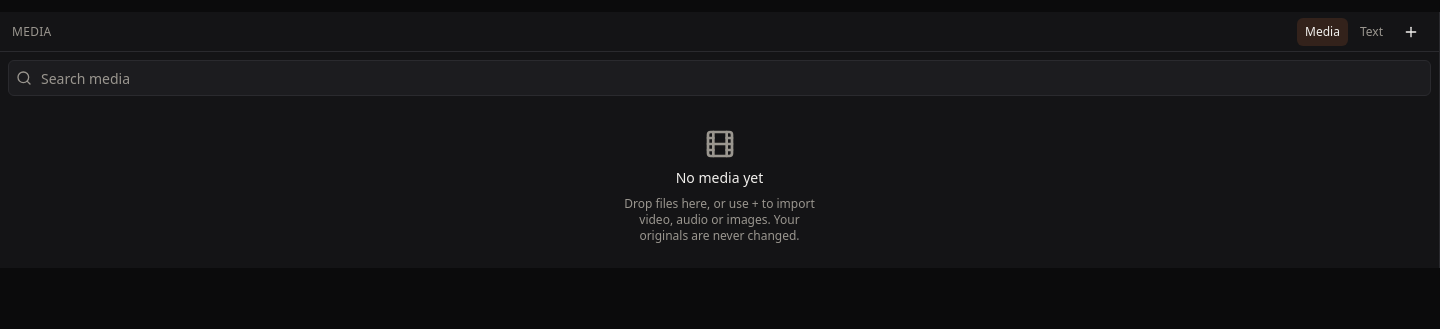
Scenario: MediaLibrary › removes an asset from the project
Click the button named "Import media".
click(1411, 32)  # box 1395,16 -> 1427,48
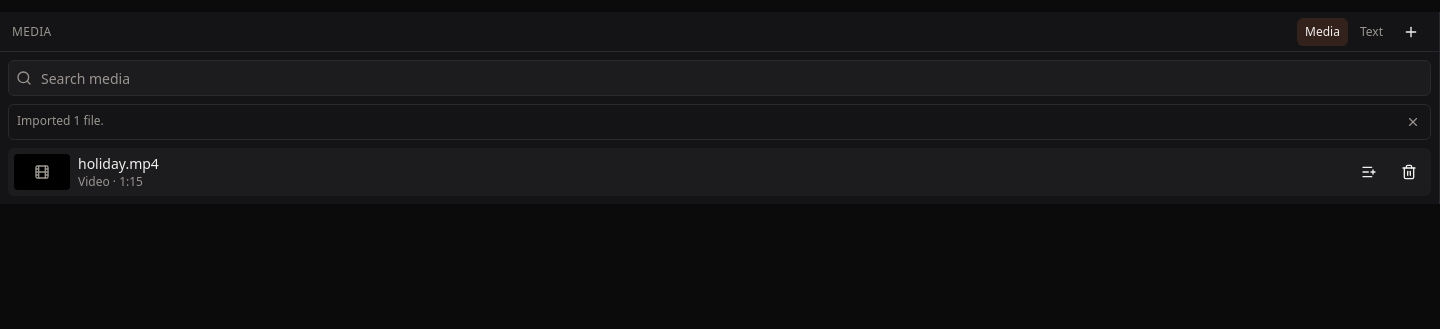
Click the button named "Remove holiday.mp4 from project".
click(1409, 172)  # box 1393,156 -> 1425,188
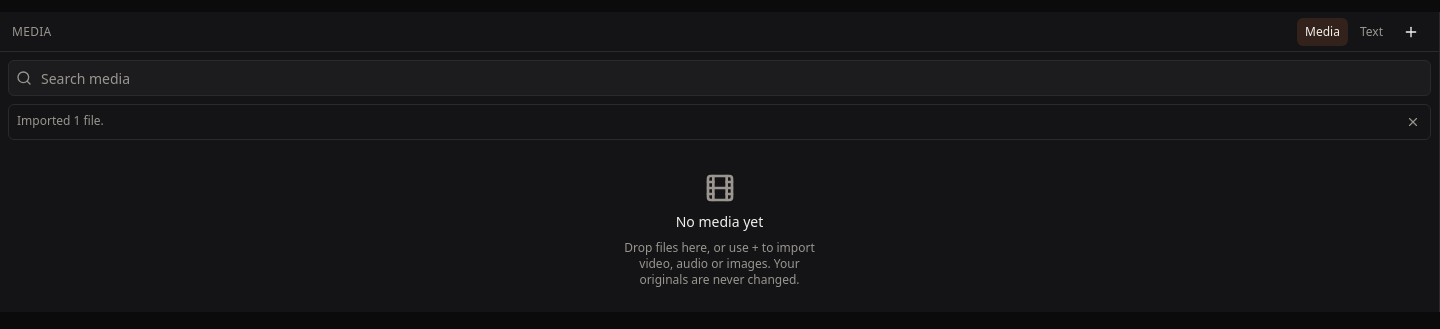
Expected: the text "No media yet" is shown, 676,212 -> 763,232
